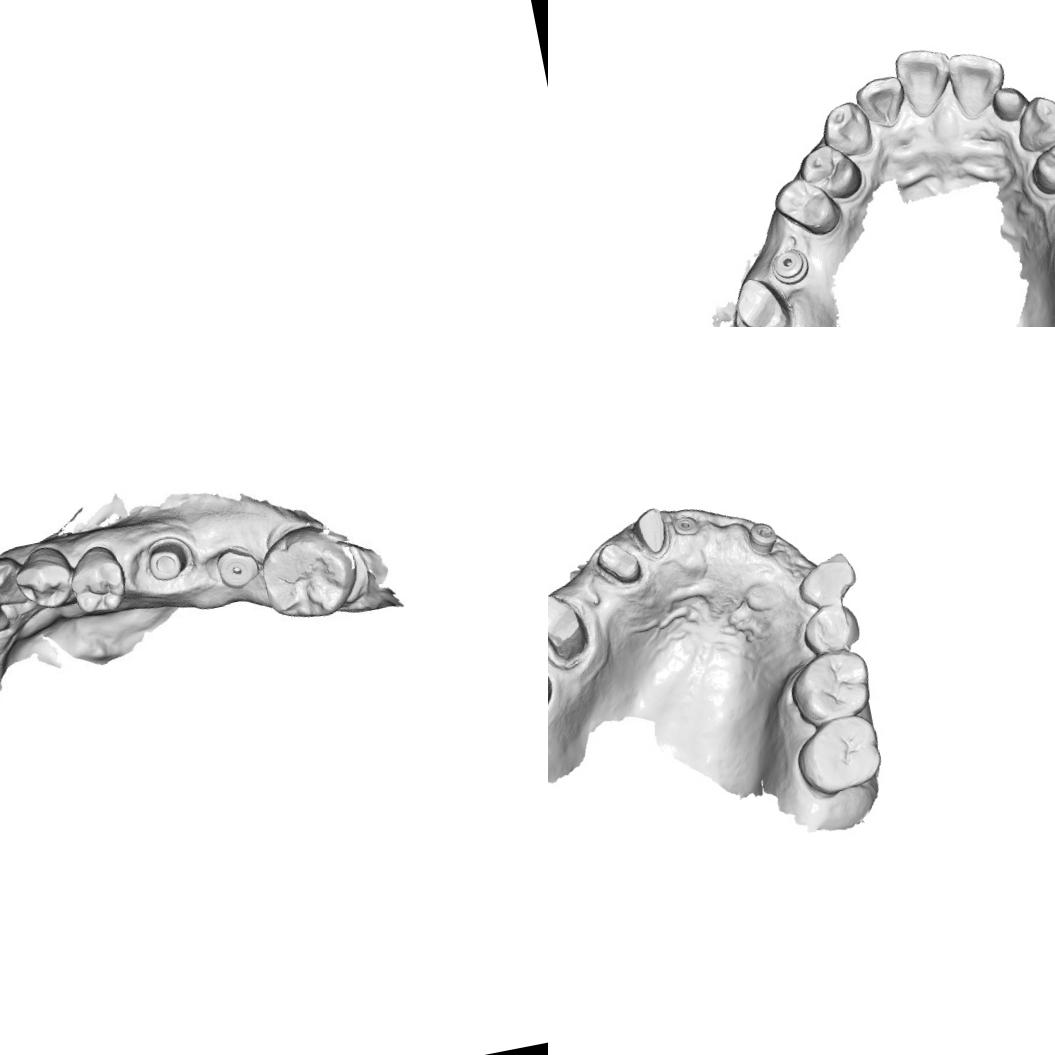abutment: (141, 531, 196, 586)
canine: (790, 546, 862, 612), (816, 96, 877, 162), (1009, 89, 1055, 155), (0, 550, 32, 620)
crown: (729, 270, 799, 327), (548, 584, 593, 668), (590, 534, 646, 594), (629, 502, 675, 560)
implant: (210, 539, 264, 595), (766, 244, 813, 288), (743, 517, 782, 560), (668, 506, 703, 540)
incisor: (890, 42, 957, 122), (944, 44, 1012, 122), (852, 72, 910, 133), (988, 81, 1031, 126), (0, 591, 13, 644)
molar: (252, 515, 366, 627), (788, 708, 888, 802), (781, 643, 877, 731)
premolar: (62, 537, 136, 620), (766, 168, 846, 244), (792, 136, 866, 207), (10, 540, 72, 618), (798, 599, 866, 657), (1025, 134, 1055, 199)
